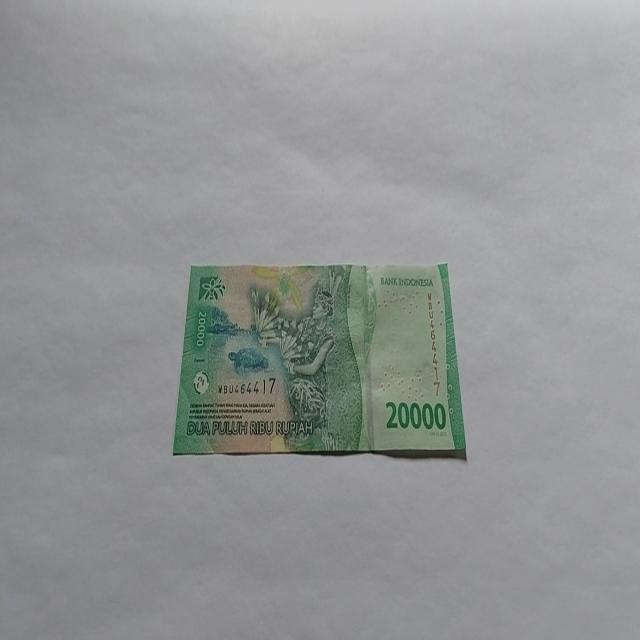dua puluh ribu rupiah: (171, 260, 467, 460)
